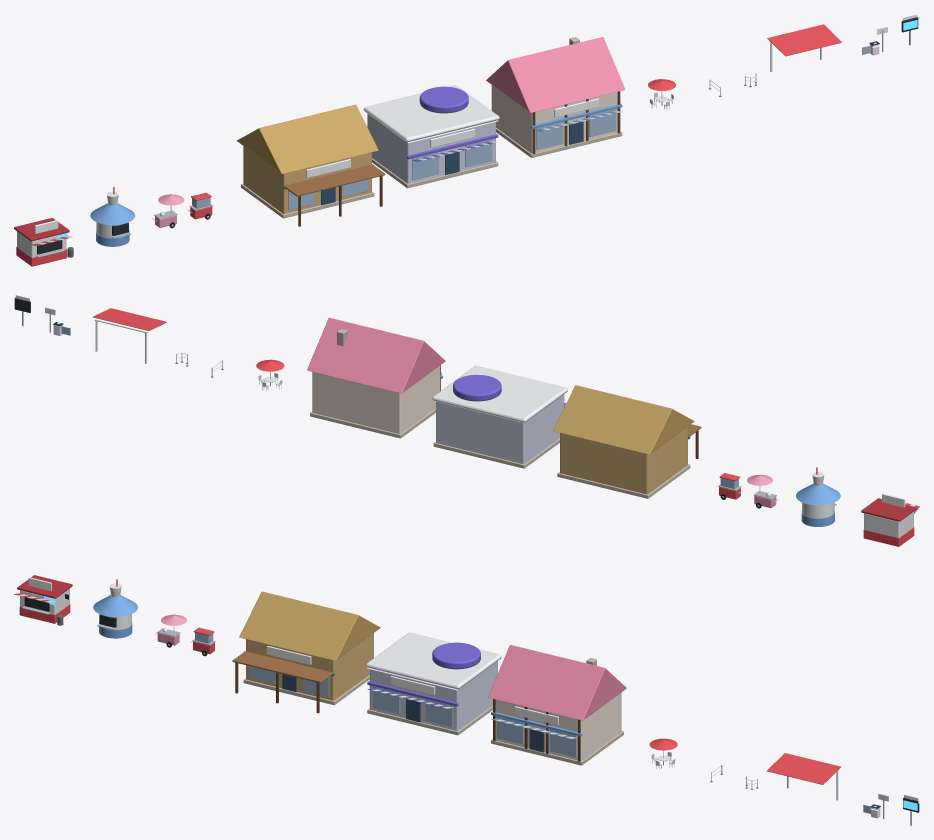
The model's file is stands.glb.
3 views of the same model, one above another, from view 1: azimuth 30°, elevation 25°; view 2: azimuth 150°, elevation 25°; view 3: azimuth 330°, elevation 25° (orthographic).
Parts seen in each view (by area): view 1: shop_tale_body, shop_adventure_body, shop_space_body, stand_kiosk_a_body, stand_kiosk_b_body, queue_canopy_body, cart_icecream_body, cart_popcorn_body; view 2: shop_tale_body, shop_adventure_body, shop_space_body, stand_kiosk_a_body, stand_kiosk_b_body, queue_canopy_body, cart_icecream_body; view 3: shop_tale_body, shop_adventure_body, shop_space_body, stand_kiosk_a_body, stand_kiosk_b_body, queue_canopy_body, cart_icecream_body.
Part boxes in pixels (left/top/right/bottom): shop_tale_body: left=486, top=37, right=625, bottom=157; shop_adventure_body: left=237, top=104, right=385, bottom=226; shop_space_body: left=363, top=85, right=499, bottom=188; stand_kiosk_a_body: left=14, top=218, right=73, bottom=266; stand_kiosk_b_body: left=90, top=187, right=134, bottom=246; queue_canopy_body: left=767, top=24, right=841, bottom=71; cart_icecream_body: left=152, top=194, right=184, bottom=228; cart_popcorn_body: left=188, top=192, right=212, bottom=219; shop_tale_body: left=307, top=317, right=445, bottom=438; shop_adventure_body: left=553, top=385, right=701, bottom=498; shop_space_body: left=432, top=365, right=567, bottom=468; stand_kiosk_a_body: left=861, top=493, right=919, bottom=546; stand_kiosk_b_body: left=796, top=467, right=840, bottom=526; queue_canopy_body: left=93, top=308, right=166, bottom=363; cart_icecream_body: left=747, top=474, right=778, bottom=508; shop_tale_body: left=488, top=645, right=626, bottom=765; shop_adventure_body: left=232, top=591, right=380, bottom=713; shop_space_body: left=366, top=632, right=501, bottom=735; stand_kiosk_a_body: left=14, top=575, right=72, bottom=625; stand_kiosk_b_body: left=93, top=579, right=137, bottom=638; queue_canopy_body: left=767, top=753, right=840, bottom=800; cart_icecream_body: left=155, top=614, right=186, bottom=647.
Size of the model in its own units: 101 by 8.97 by 11.01.
